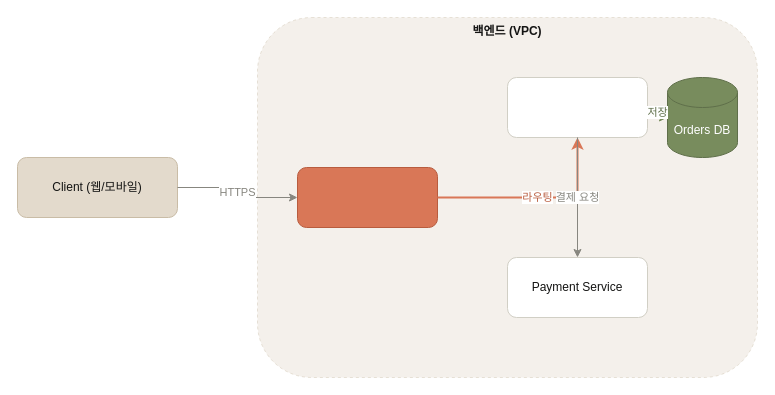
Image size: 775x395. Some labels were removed from this diagram. The centre of each missing label's shape, as x and y in pixels:
"API Gateway" goes at point 367,197.
"Order Service" goes at point 577,107.
